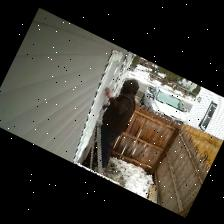person: (100, 79, 138, 167)
